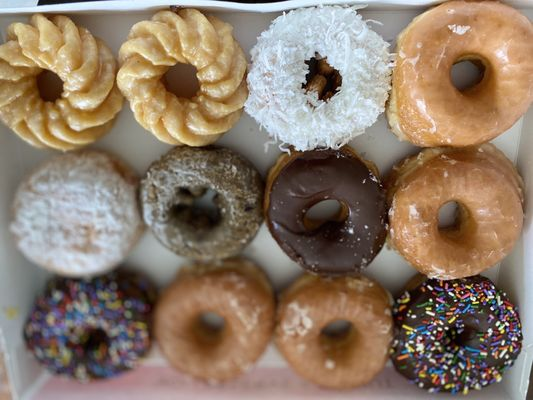salad: (246, 3, 395, 153), (387, 0, 533, 148), (385, 143, 526, 280), (116, 7, 251, 147), (9, 150, 145, 282), (0, 13, 126, 154), (264, 146, 389, 276), (389, 274, 523, 394), (151, 261, 277, 385), (140, 146, 266, 264), (23, 271, 157, 381), (274, 272, 396, 390), (3, 13, 118, 111)
